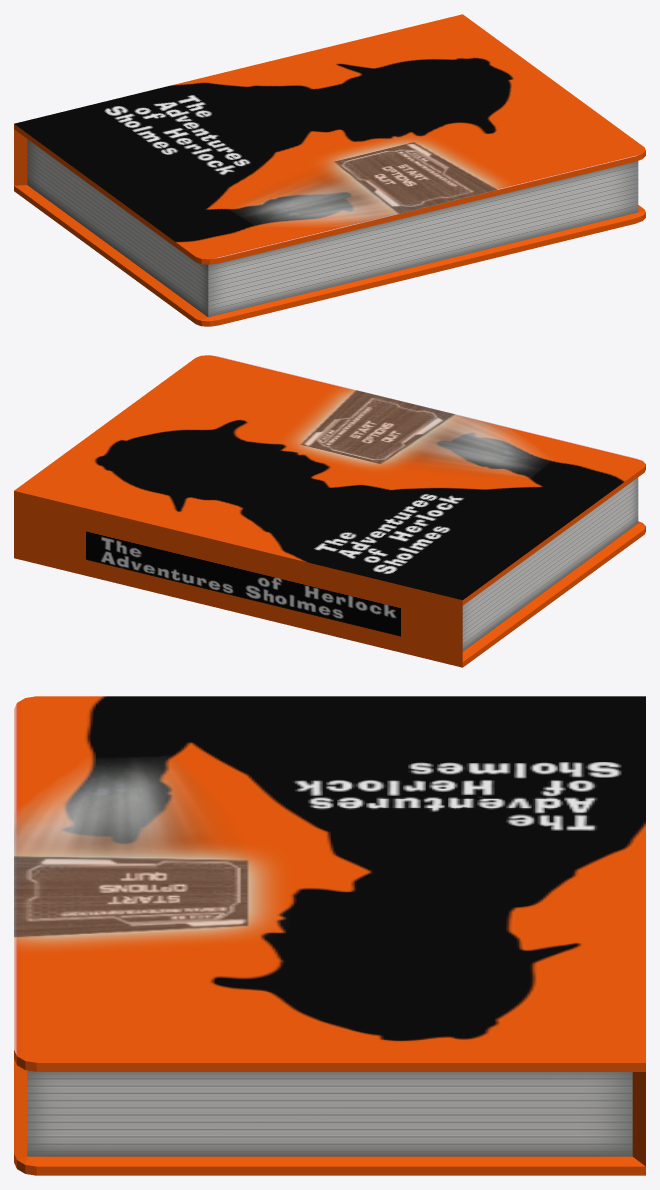
The model's file is Book (closed) 5 NEW.fbx.
3 renders of one model, top to bottom at view 1: azimuth 30°, elevation 25°; view 2: azimuth 150°, elevation 25°; view 3: azimuth 270°, elevation 25°, orthographic. The views are drawn at different scales.
Visible parts, largest first — view 1: cover, page; view 2: cover, page; view 3: cover, page.
Part boxes in pixels (bbox=[...]): cover: bbox=[14, 14, 645, 326]; page: bbox=[27, 139, 638, 317]; cover: bbox=[14, 355, 645, 667]; page: bbox=[462, 477, 638, 651]; cover: bbox=[14, 696, 645, 1175]; page: bbox=[27, 1070, 632, 1156].
Size of the model in its own units: 460 by 67.34 by 335.
